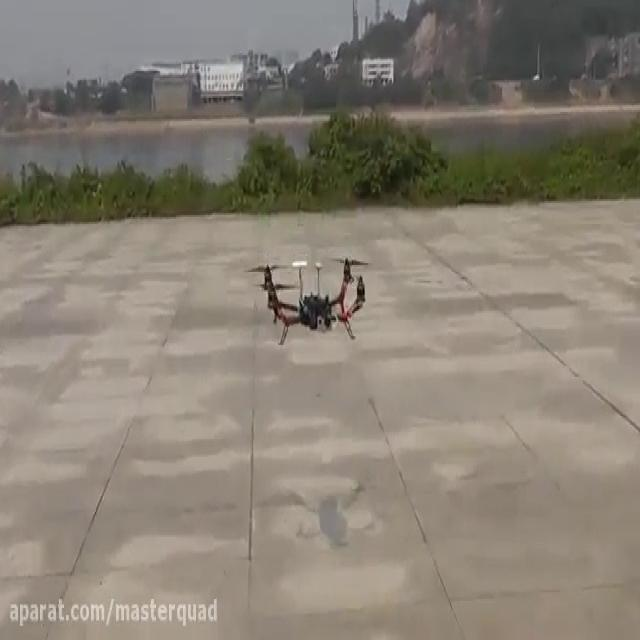drone: (242, 251, 371, 349)
